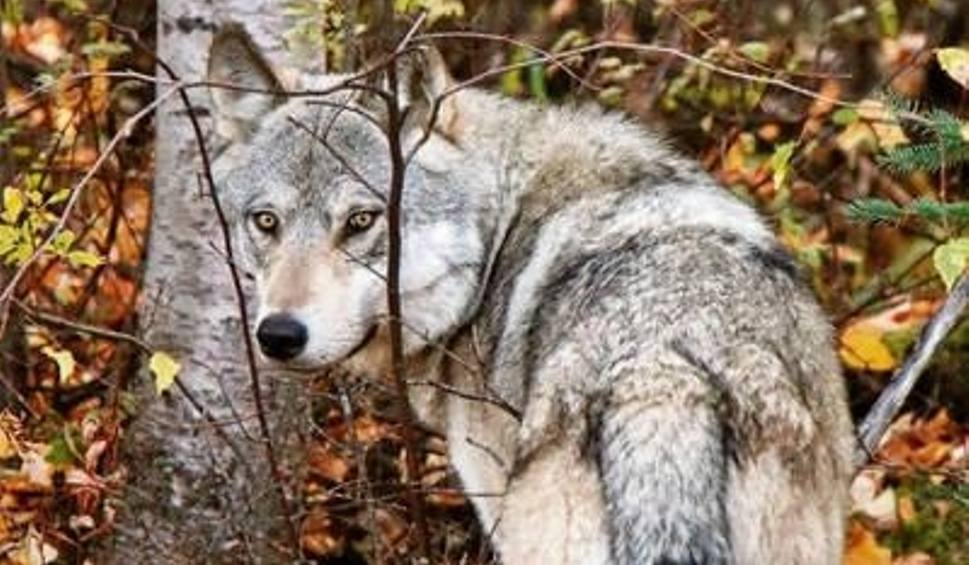wolf: (195, 77, 843, 565)
